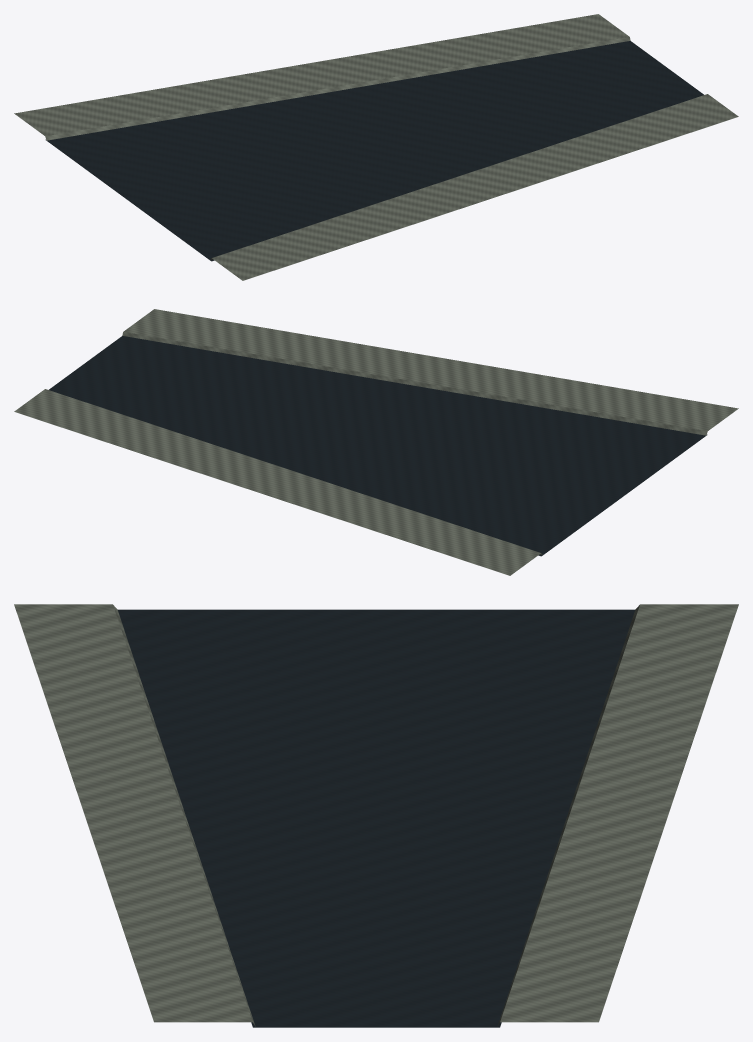
File: road_taper_4to2_24m_ShadowProxy.glb
3 renders of one model, top to bottom at view 1: azimuth 30°, elevation 25°; view 2: azimuth 150°, elevation 25°; view 3: azimuth 270°, elevation 25°, orthographic. The views are drawn at different scales.
Visible parts, largest first — view 1: road_taper_4to2_24m__surface.003; view 2: road_taper_4to2_24m__surface.003; view 3: road_taper_4to2_24m__surface.003.
Boxes of the visible parts, <box> form: road_taper_4to2_24m__surface.003: <box>14,14,738,280</box>; road_taper_4to2_24m__surface.003: <box>14,309,738,575</box>; road_taper_4to2_24m__surface.003: <box>14,604,738,1027</box>.
Size of the model in its own units: 24 by 0.145 by 17.6.
Materials: 3 (3 with a texture image).
